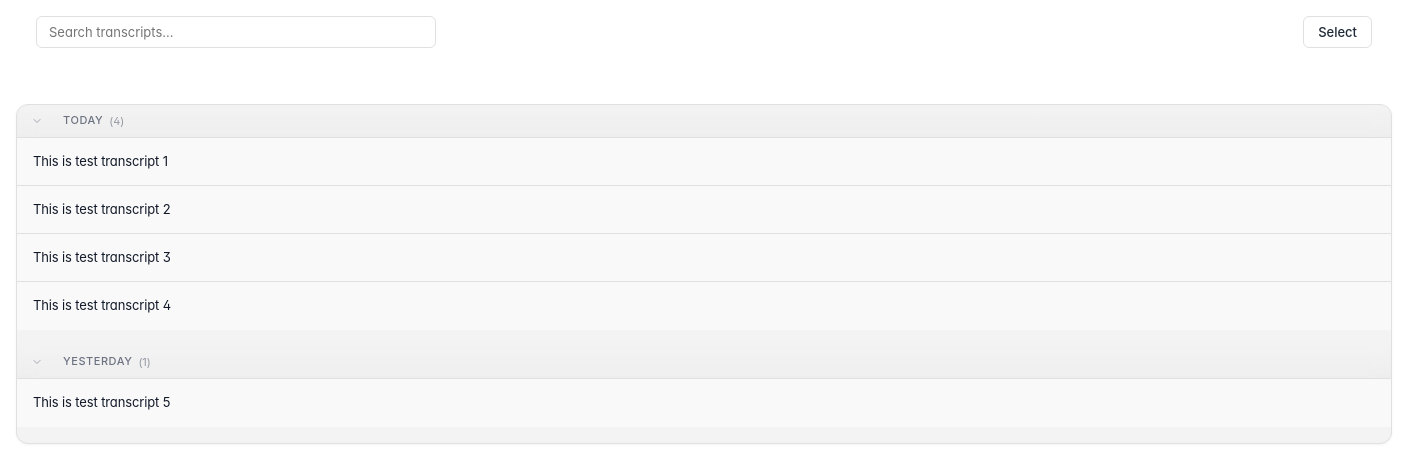
Test: TranscriptsView › Selection Mode › exits selection mode when Cancel is clicked
Click the button "Select" at (1338,32), box [1303, 16, 1372, 48]
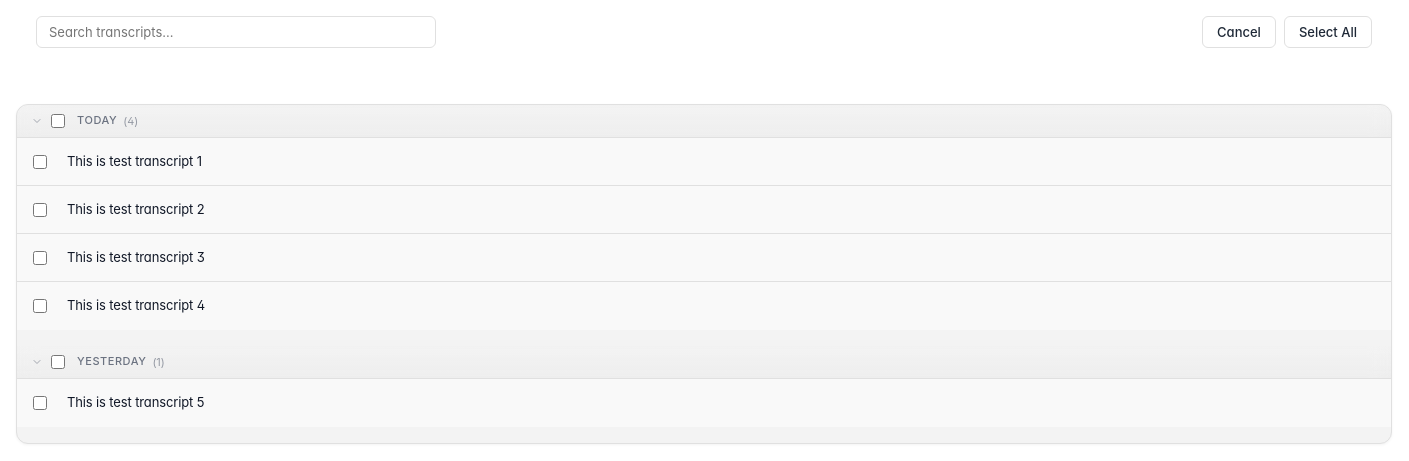
Click the button "Cancel" at (1239,32), box [1202, 16, 1276, 48]
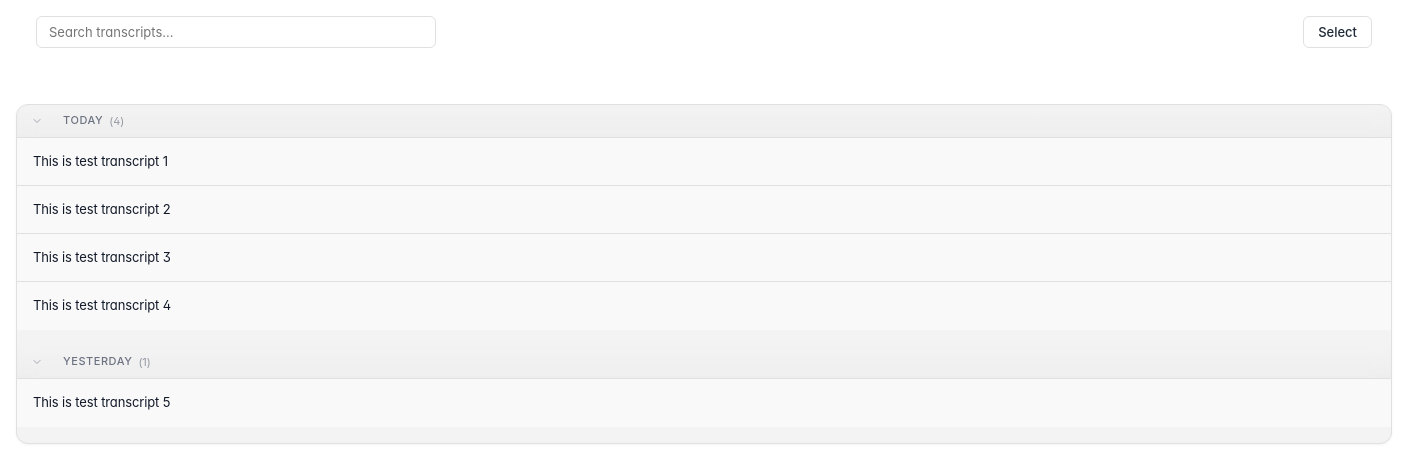
Expected: the button "Select" is shown, [1303, 16, 1372, 48]
Expected: the button "Cancel" is gone
